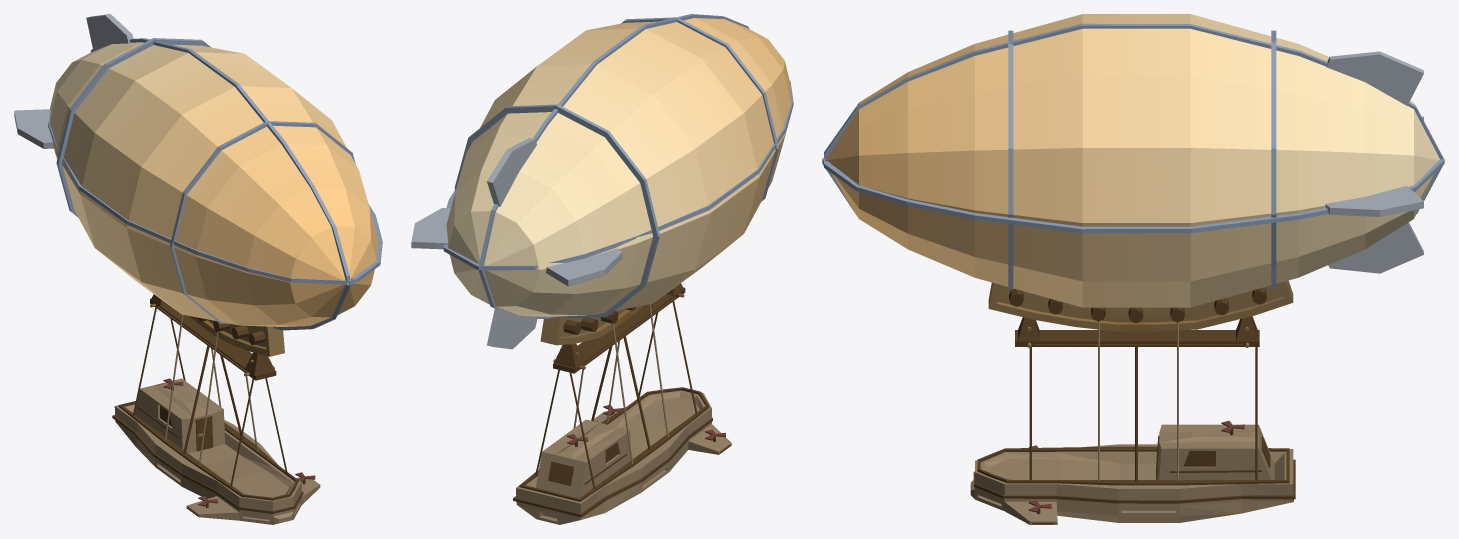
File: Airship.glb
3 renders of one model, left to right at view 1: azimuth 30°, elevation 25°; view 2: azimuth 150°, elevation 25°; view 3: azimuth 270°, elevation 25°, orthographic. The views are drawn at different scales.
Visible parts, largest first — view 1: Node; view 2: Node; view 3: Node.
Boxes of the visible parts, box(x1,y1,x2,y2) form: Node: box(14, 14, 382, 524); Node: box(411, 14, 793, 524); Node: box(822, 14, 1444, 524).
Size of the model in its own units: 195 by 353 by 404.
1 material, 1 textured.
